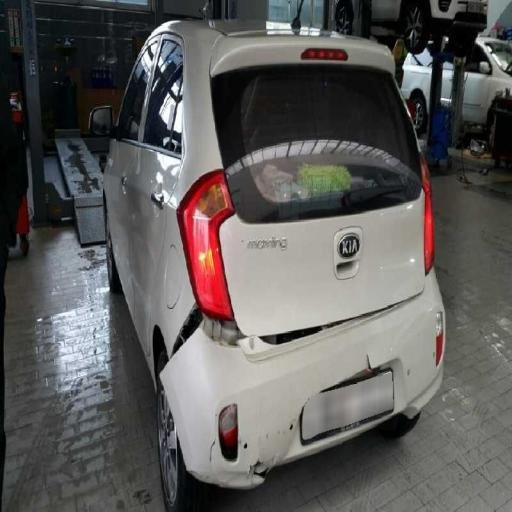broken: (134, 181, 410, 508)
